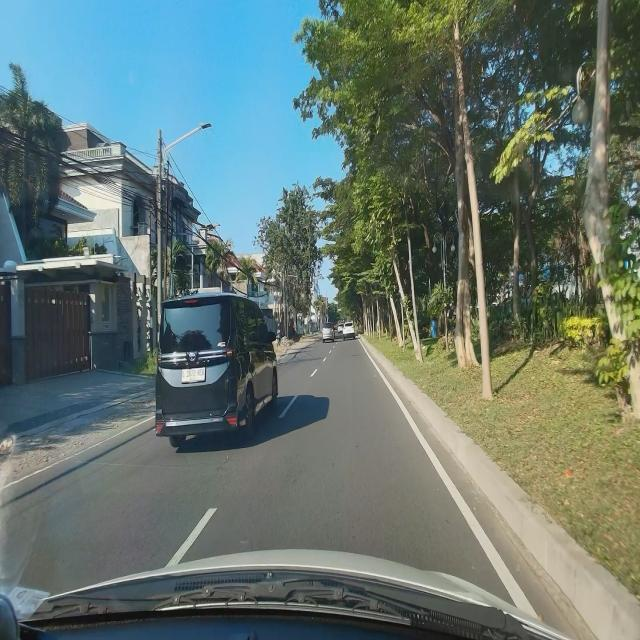car: (155, 286, 279, 450)
license-plate: (181, 366, 206, 384)
